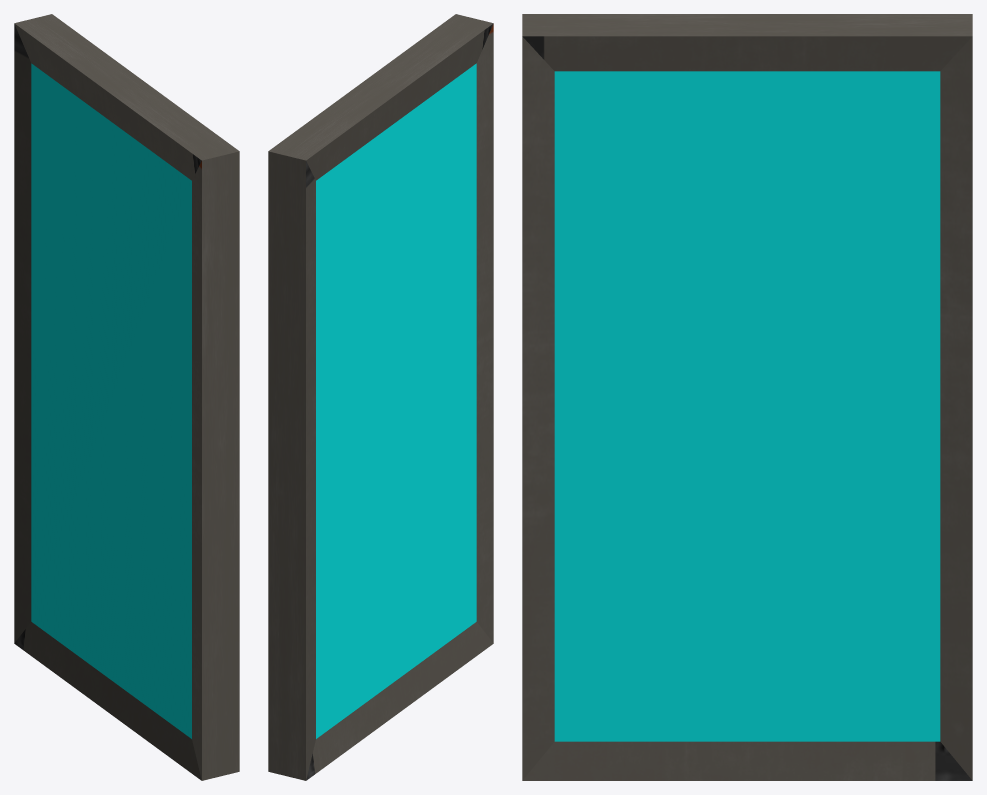
File: window.fbx
The picture shows the model from 3 angles, left to right: view 1: azimuth 30°, elevation 25°; view 2: azimuth 150°, elevation 25°; view 3: azimuth 270°, elevation 25°; orthographic projection. The views are drawn at different scales.
Visible parts, largest first — view 1: pCube6; view 2: pCube6; view 3: pCube6.
Part boxes in pixels (box(x1,y1,x2,y2)): pCube6: box(14, 14, 239, 780); pCube6: box(268, 14, 493, 780); pCube6: box(522, 14, 972, 780).
Size of the model in its own units: 1.23 by 19.19 by 10.52.
Materials: 2 (1 with a texture image).
